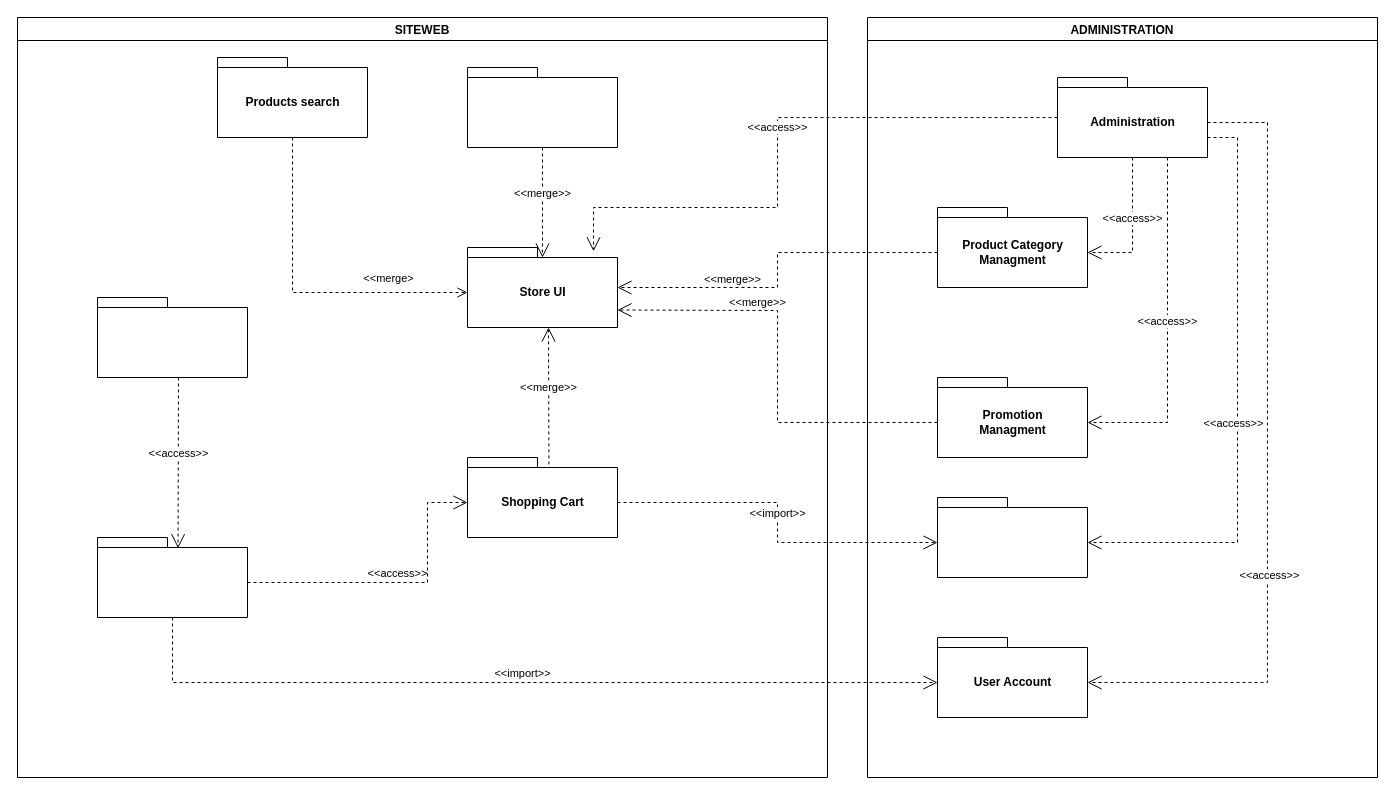
The diagram is 1395 pixels wide and 795 high, and some of its shapes have lost their labels. Here are the shapes that lost their labels. From the top down, the centre of each, then its label:
At (x=542, y=107): "Product pages".
At (x=172, y=337): "Orders".
At (x=1012, y=537): "Product Inventory".
At (x=172, y=577): "Payment System".
